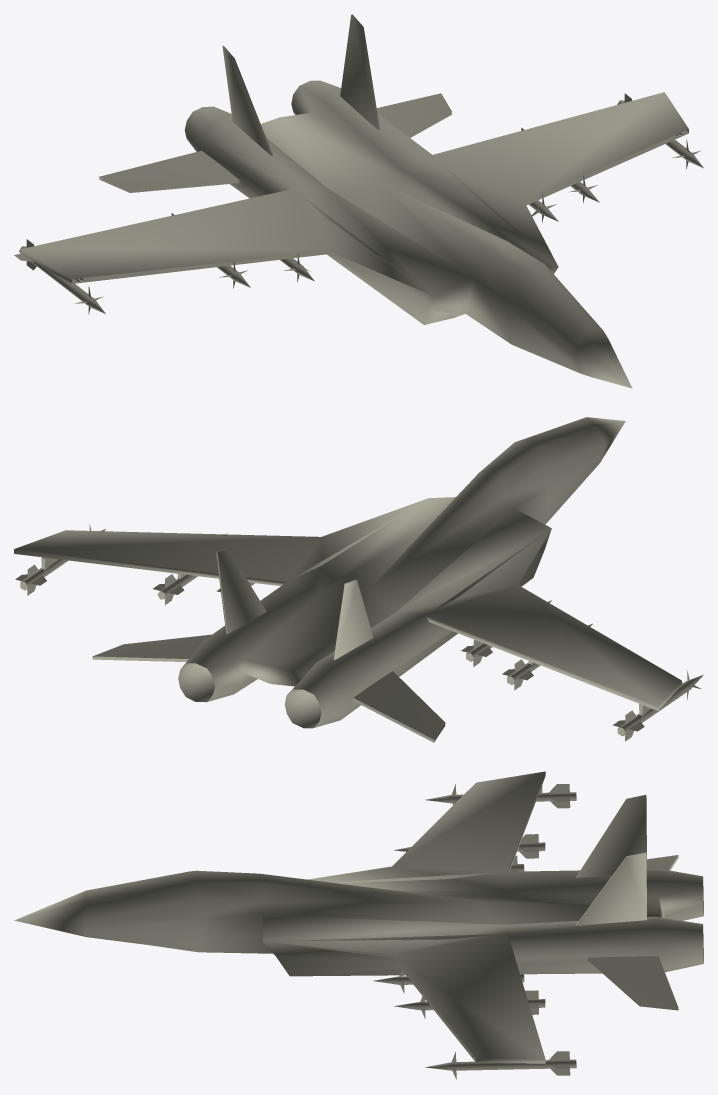
File: icon.ico.obj
The picture shows the model from 3 angles, top to bottom: view 1: azimuth 30°, elevation 25°; view 2: azimuth 150°, elevation 25°; view 3: azimuth 270°, elevation 25°; orthographic projection. The views are drawn at different scales.
Size of the model in its own units: 4.14 by 0.8584 by 4.19.
